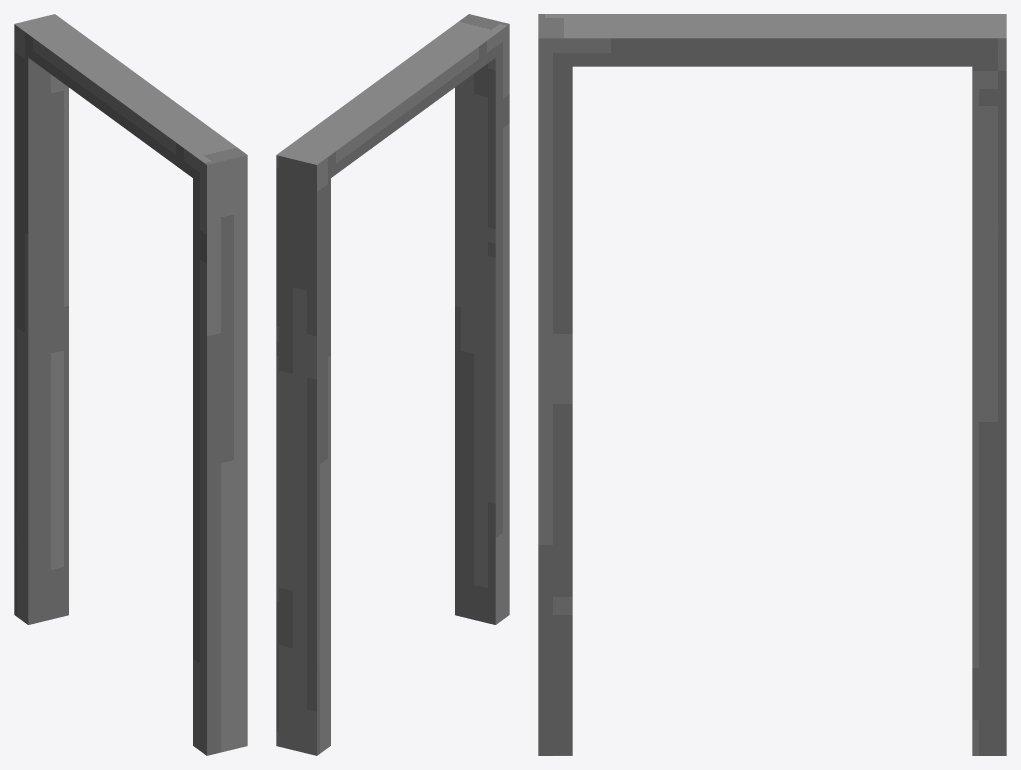
File: FameDoor_Elevator.fbx
3 renders of one model, left to right at view 1: azimuth 30°, elevation 25°; view 2: azimuth 150°, elevation 25°; view 3: azimuth 270°, elevation 25°, orthographic. The views are drawn at different scales.
Visible parts, largest first — view 1: Cube; view 2: Cube; view 3: Cube.
Boxes of the visible parts, x1,y1,x2,y2 form: Cube: [14, 14, 247, 755]; Cube: [276, 14, 509, 755]; Cube: [538, 14, 1006, 755].
Bounding box in the file's own units: 61.46 × 850 × 503.
Materials: 1 (1 with a texture image).
